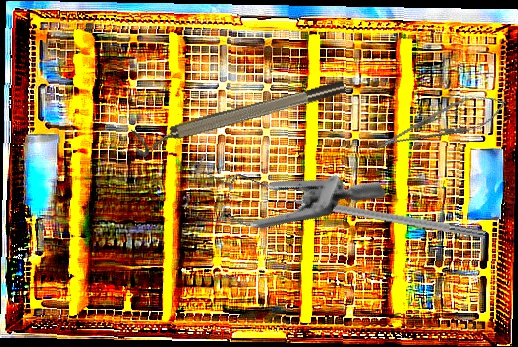Fixation Ring: (131, 76, 349, 159)
Hook Surgical: (258, 188, 487, 240)
Needle Holder: (372, 85, 511, 162)
Speculum: (165, 83, 388, 291)
